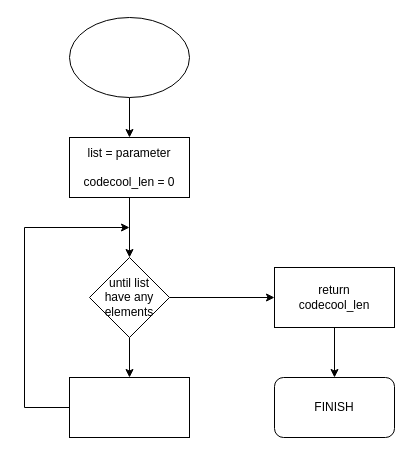
This 412x455 diagram has some shape labels left out. The shapes that lost their labels are listed below. From the top down, each one's centre as x and y in pixels, then its label:
At (129,57): "START".
At (129,407): "codecool_len += 1 delete item from list".
